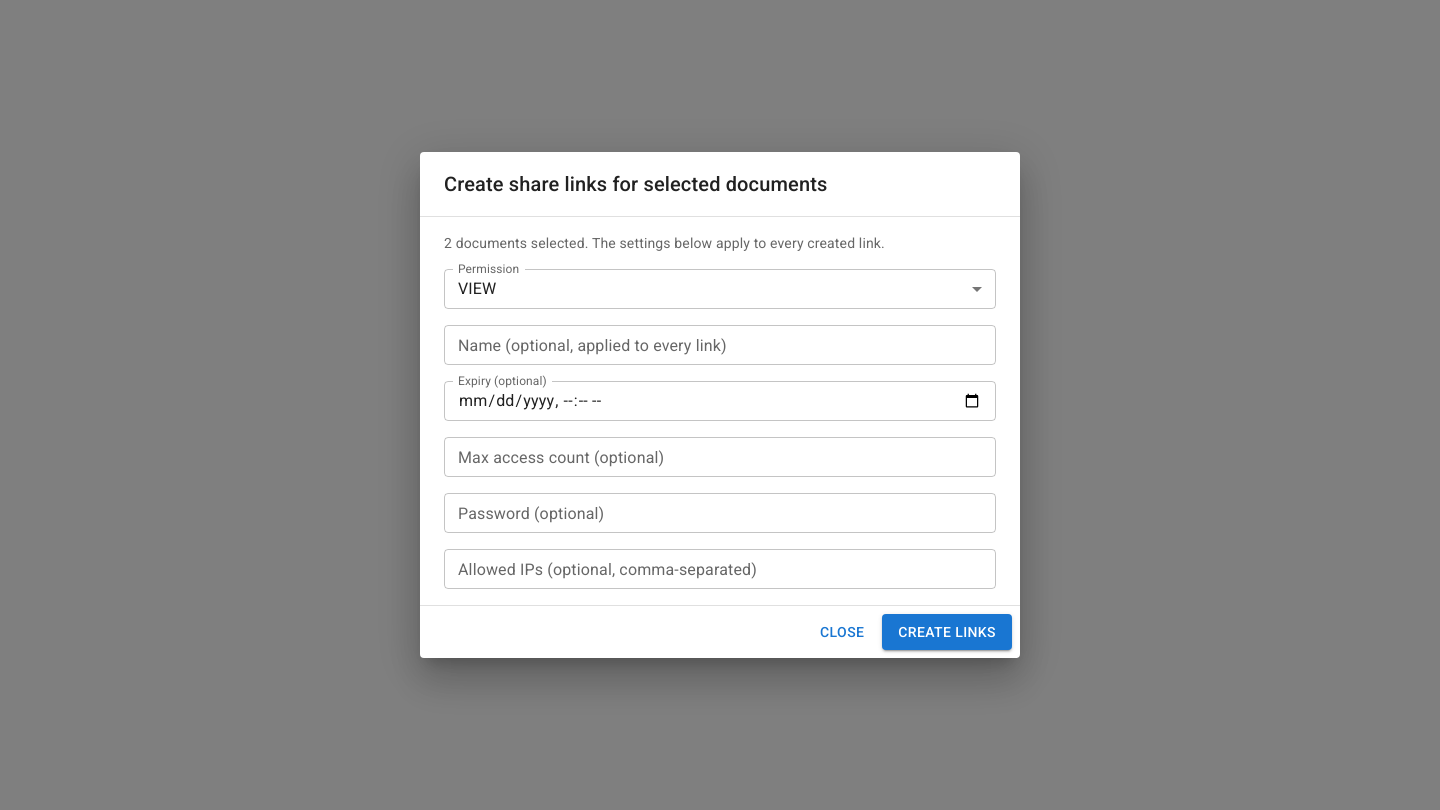
Test: BulkShareLinksDialog › stays open on partial failure and renders failed rows grouped by errorCategory
Click the button with test id "bulk-share-submit": (947, 632) [882,614,1012,650]
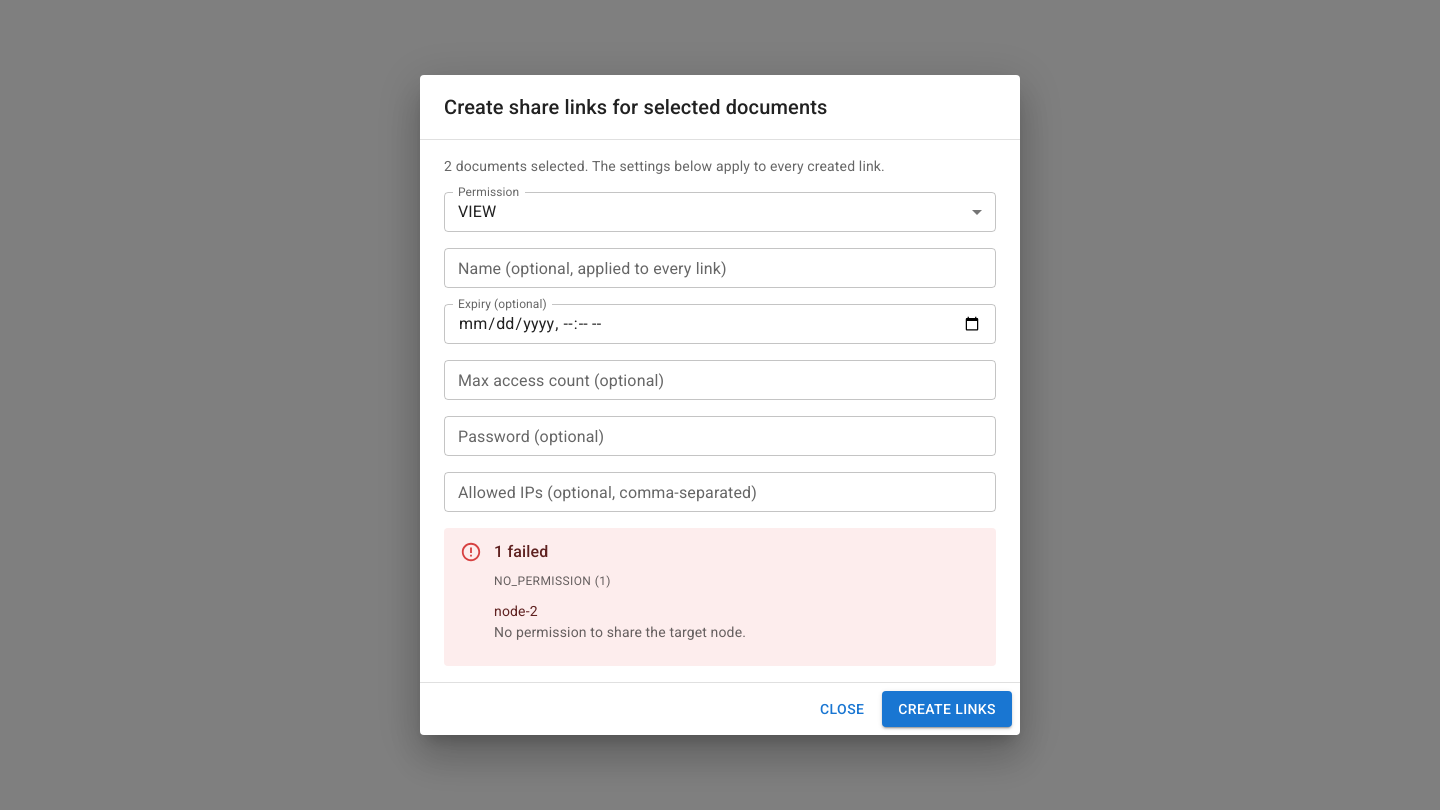
expect the text "node-2" is shown: met, box [494,604,538,620]
expect the element with test id "bulk-share-failed-no_permission" is shown: met, box [494,570,746,652]
